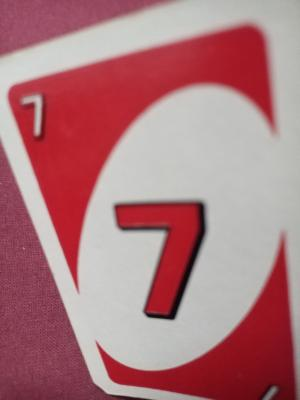num_7: (107, 191, 212, 336), (14, 82, 59, 149)
